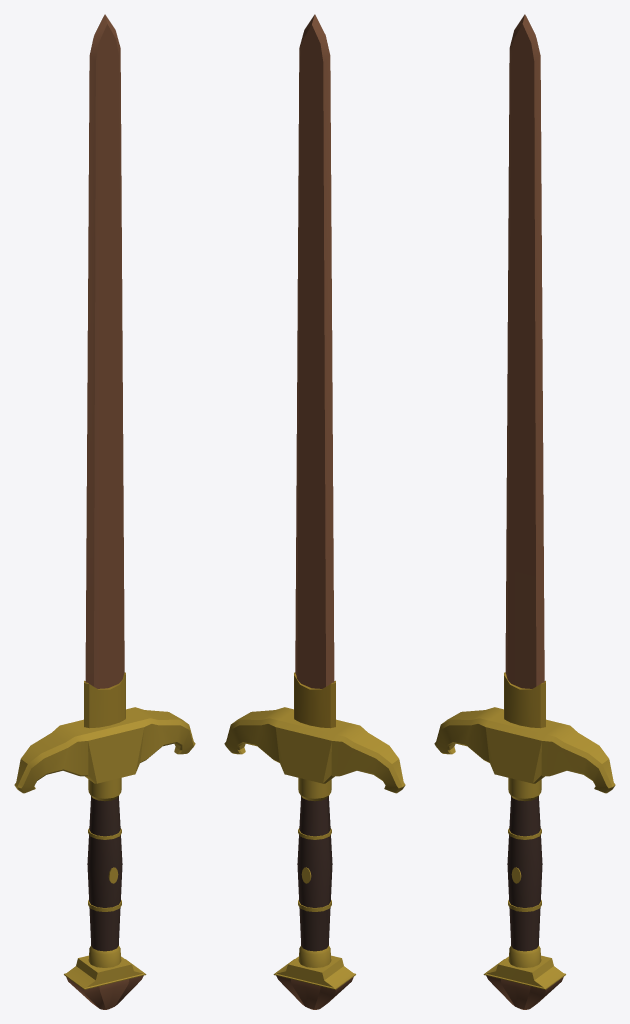
The model's file is SM_Sword14_Jian_4Bronze.fbx.
3 renders of one model, left to right at view 1: azimuth 30°, elevation 25°; view 2: azimuth 150°, elevation 25°; view 3: azimuth 330°, elevation 25°, orthographic.
Parts seen in each view (by area): view 1: Cube.312, Cube.313, Cylinder.289, Cube.308, Cylinder.413; view 2: Cube.312, Cube.313, Cylinder.289, Cube.308, Cylinder.413; view 3: Cube.312, Cube.313, Cylinder.289, Cube.308, Cylinder.413.
Boxes of the visible parts, x1,y1,x2,y2 form: Cube.312: (85, 14, 124, 688); Cube.313: (14, 707, 195, 793); Cylinder.289: (87, 778, 122, 967); Cube.308: (64, 955, 146, 1009); Cylinder.413: (84, 672, 125, 728); Cube.312: (295, 14, 334, 688); Cube.313: (224, 707, 405, 793); Cylinder.289: (297, 778, 332, 967); Cube.308: (273, 955, 355, 1009); Cylinder.413: (294, 672, 335, 728); Cube.312: (505, 14, 544, 688); Cube.313: (434, 707, 615, 793); Cylinder.289: (507, 778, 542, 967); Cube.308: (483, 955, 565, 1009); Cylinder.413: (504, 672, 545, 728).
Bounding box in the file's own units: 0.185 × 0.986 × 0.0405.
